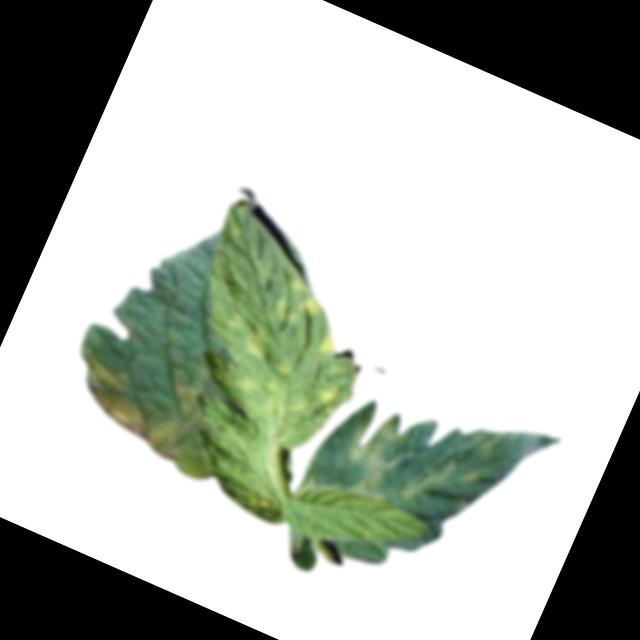Leaf_Mold: (331, 401, 416, 503), (76, 381, 184, 459), (268, 269, 333, 339), (75, 345, 135, 395), (164, 375, 213, 423), (239, 323, 276, 364), (312, 376, 344, 410), (234, 367, 264, 397), (317, 330, 341, 360)
